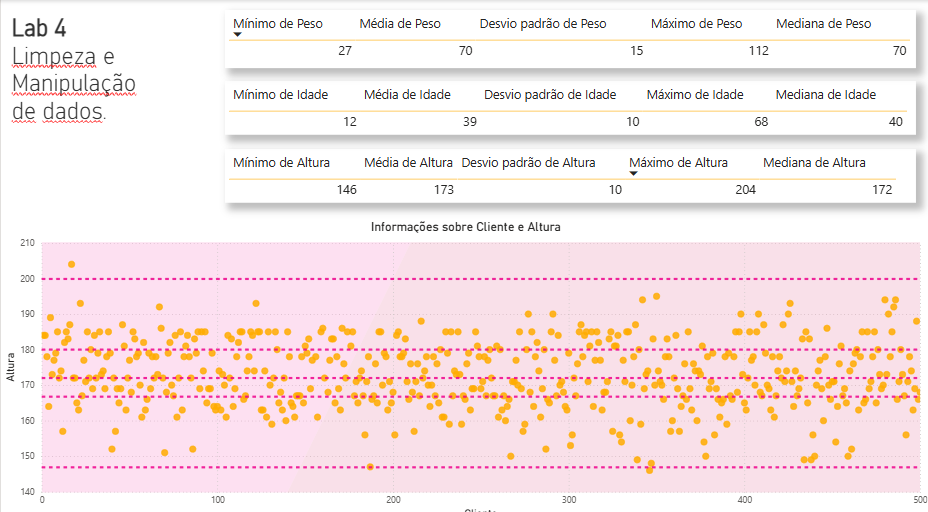

The dashboard page shown, as its layout file describes it:
{"tool":"powerbi","page":{"name":"Página","canvas":[1280,720],"ordinal":0},"visuals":[{"type":"scatterChart","title":"Informações sobre Cliente e Altura","fields":{"X":["Clientes.ID_Cliente"],"Y":["Clientes.Altura"]},"box":[0,301.4,1280,418.4],"z":0},{"type":"tableEx","fields":{"Values":["Min(Clientes.Altura)","Avg(Clientes.Altura)","StandardDeviation(Clientes.Altura)","Max(Clientes.Altura)1","Median(Clientes.Altura)2"]},"box":[308.7,205.1,951.1,74.3],"z":1000},{"type":"tableEx","fields":{"Values":["Min(Clientes.Idade)","Avg(Clientes.Idade)","StandardDeviation(Clientes.Idade)","Max(Clientes.Idade)","Median(Clientes.Idade)"]},"box":[308.7,111.5,951.1,74.3],"z":2000},{"type":"tableEx","fields":{"Values":["Min(Clientes.Peso)","Avg(Clientes.Peso)","StandardDeviation(Clientes.Peso)","Max(Clientes.Peso)","Median(Clientes.Peso)"]},"box":[308.7,13.8,951.1,79.8],"z":3000},{"type":"textbox","box":[9.6,13.8,276.6,172],"z":3001}]}

Visuals, with their boxes in screenshot pixels (x1, y1, x2, y2), scaled from the page's 1280x720 canvas onto the 928x512 screenshot:
"Informações sobre Cliente e Altura" scatterChart: 0/214/927/511
tableEx - Min(Clientes.Altura) x Avg(Clientes.Altura): 224/146/913/199
tableEx - Min(Clientes.Idade) x Avg(Clientes.Idade): 224/79/913/132
tableEx - Min(Clientes.Peso) x Avg(Clientes.Peso): 224/10/913/67
textbox: 7/10/207/132
